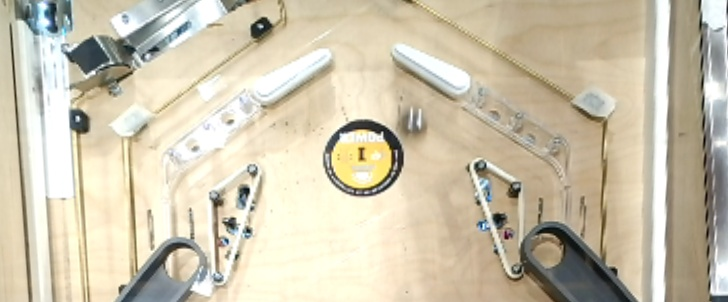ball: (396, 104, 429, 140)
flipper-left: (389, 43, 473, 104)
flipper-right: (251, 47, 334, 111)
